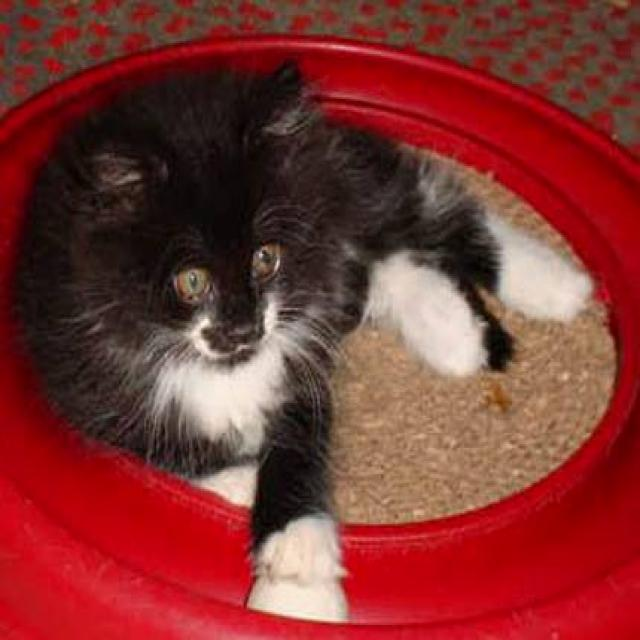Kucing: (41, 34, 632, 598)
